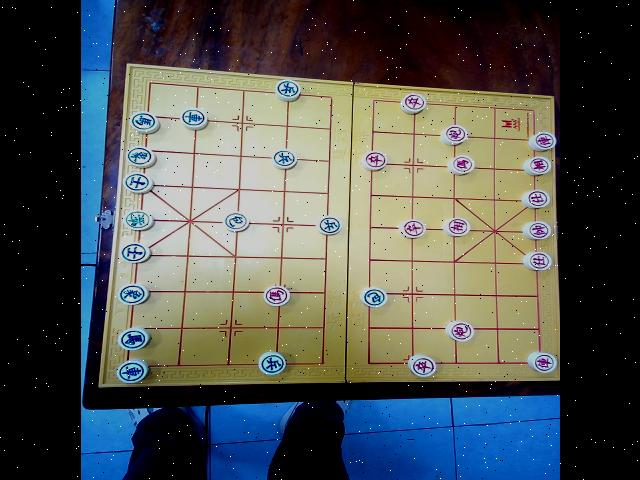piece: (115, 359, 149, 383), (118, 327, 150, 350), (256, 351, 286, 375), (526, 350, 558, 372), (116, 284, 148, 306), (444, 320, 474, 342), (408, 354, 438, 376), (129, 111, 159, 133), (118, 243, 150, 263), (180, 108, 208, 130), (440, 125, 470, 145), (522, 250, 552, 270), (522, 156, 552, 176), (520, 189, 550, 209), (124, 173, 154, 193), (124, 210, 154, 230), (400, 92, 426, 114), (274, 80, 300, 102), (448, 154, 476, 174), (443, 217, 471, 237), (360, 287, 388, 307), (126, 146, 154, 166), (361, 150, 388, 170), (528, 131, 556, 150), (400, 218, 426, 238), (272, 149, 298, 169), (264, 286, 290, 306), (223, 212, 250, 231), (522, 221, 550, 239), (316, 216, 342, 234)
